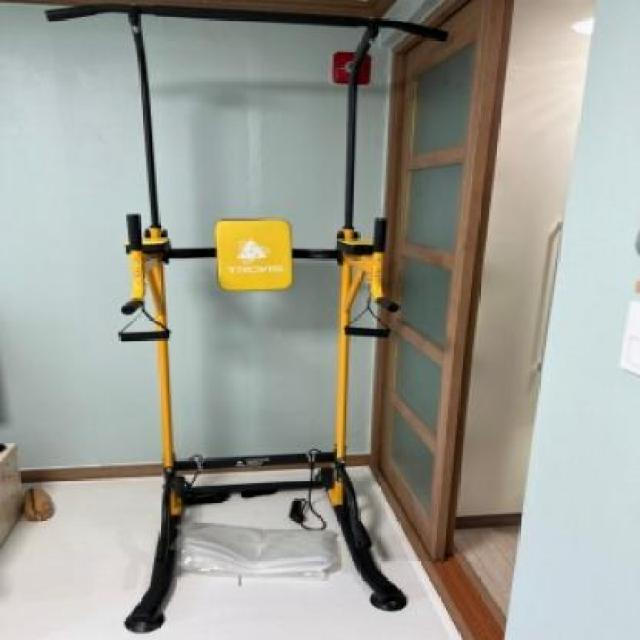chinning dipping: (48, 3, 449, 631)
